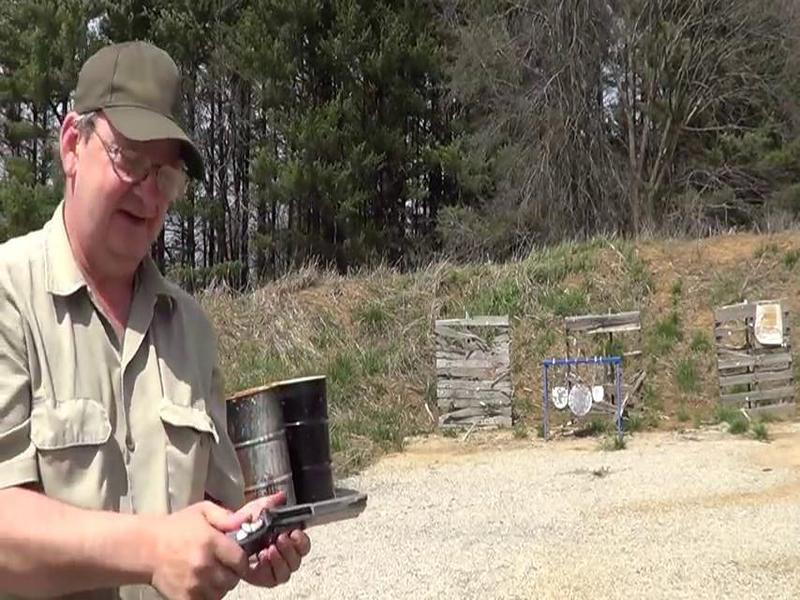Revolver: (188, 487, 382, 591)
